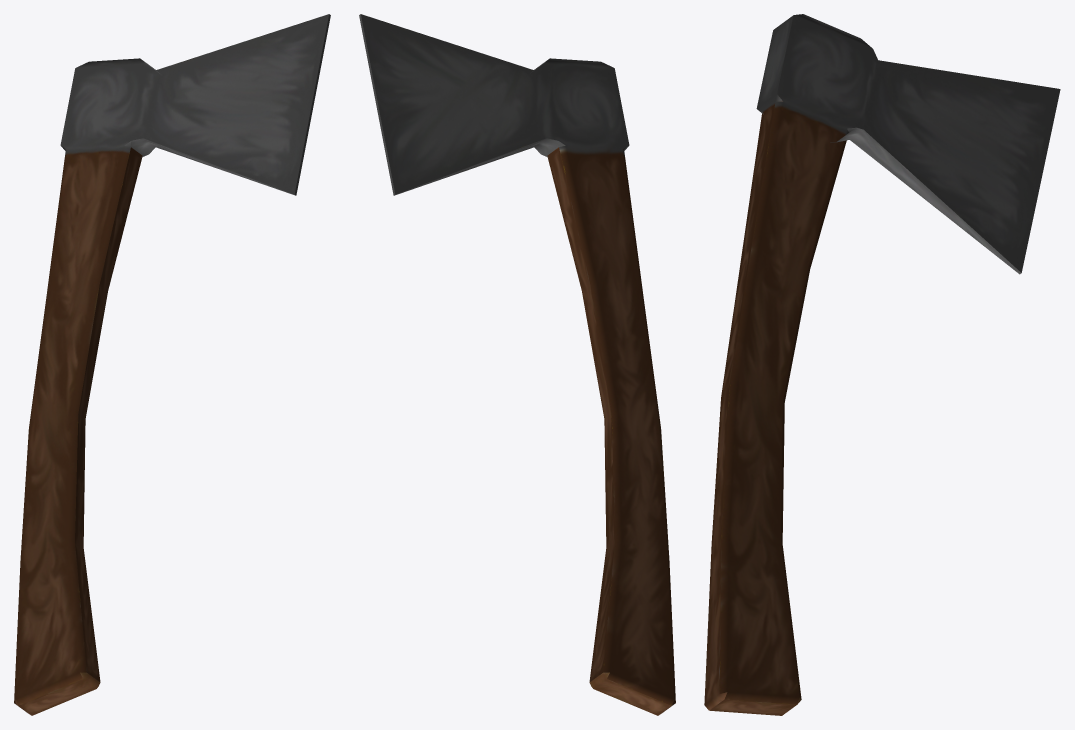
Rendered from axe_textured.glb.
The picture shows the model from 3 angles, left to right: view 1: azimuth 30°, elevation 25°; view 2: azimuth 150°, elevation 25°; view 3: azimuth 330°, elevation 25°; orthographic projection. The views are drawn at different scales.
Visible parts, largest first — view 1: Axe; view 2: Axe; view 3: Axe.
Boxes of the visible parts, box(x1,y1,x2,y2) form: Axe: box(14, 14, 330, 715); Axe: box(359, 14, 675, 715); Axe: box(704, 14, 1060, 715).
Bounding box in the file's own units: 0.1477 × 0.2862 × 0.0154.
Materials: 1 (1 with a texture image).
